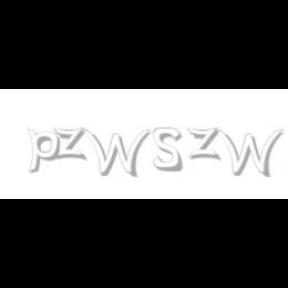S: (153, 128, 184, 172)
W: (79, 128, 151, 178), (212, 128, 284, 178)
p: (26, 128, 64, 174)
z: (53, 128, 89, 160), (187, 128, 223, 160)
